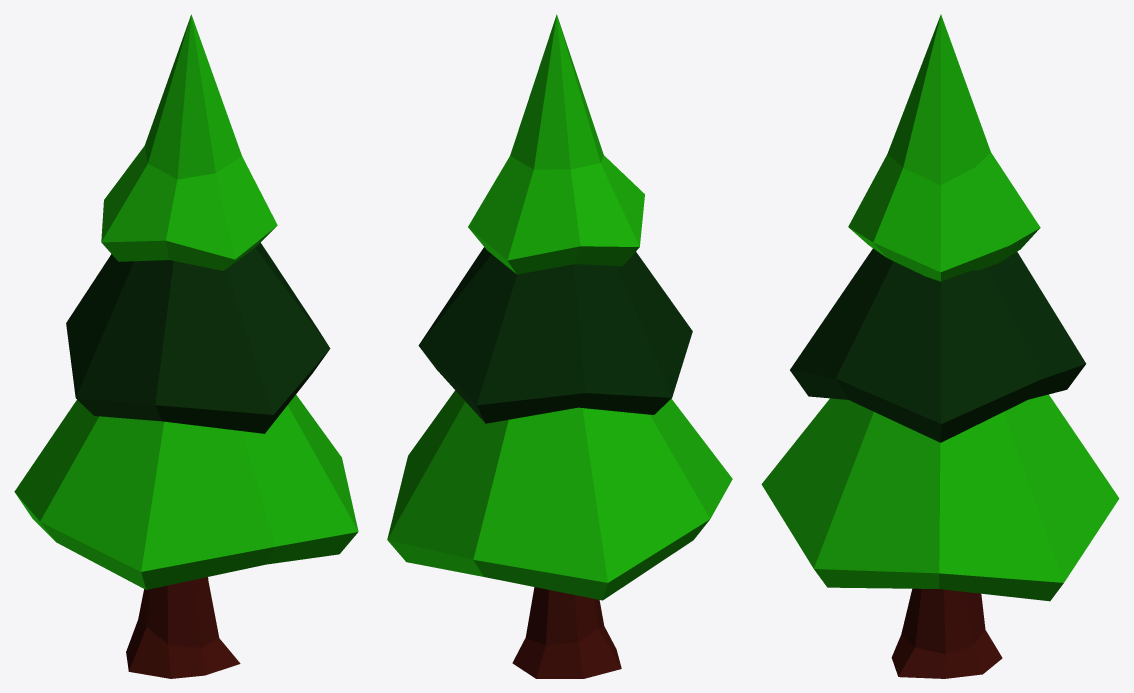
File: basic-tree.fbx
The picture shows the model from 3 angles, left to right: view 1: azimuth 30°, elevation 25°; view 2: azimuth 150°, elevation 25°; view 3: azimuth 270°, elevation 25°; orthographic projection.
Visible parts, largest first — view 1: Tree_Spruce_tiny_01; view 2: Tree_Spruce_tiny_01; view 3: Tree_Spruce_tiny_01.
Part boxes in pixels (<box>): Tree_Spruce_tiny_01: <box>14,14,358,678</box>; Tree_Spruce_tiny_01: <box>387,14,732,678</box>; Tree_Spruce_tiny_01: <box>761,14,1119,678</box>.
Bounding box in the file's own units: 214 × 433 × 217.
